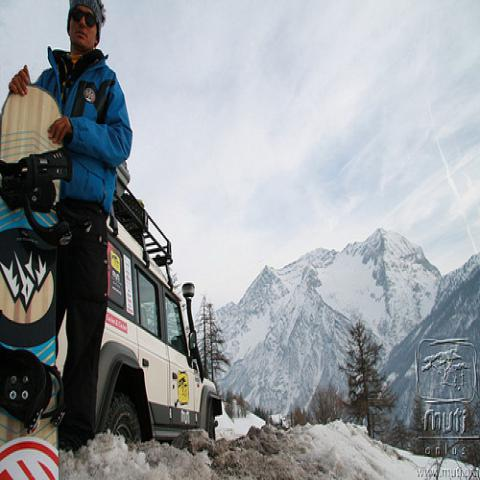truck: (96, 164, 222, 441)
